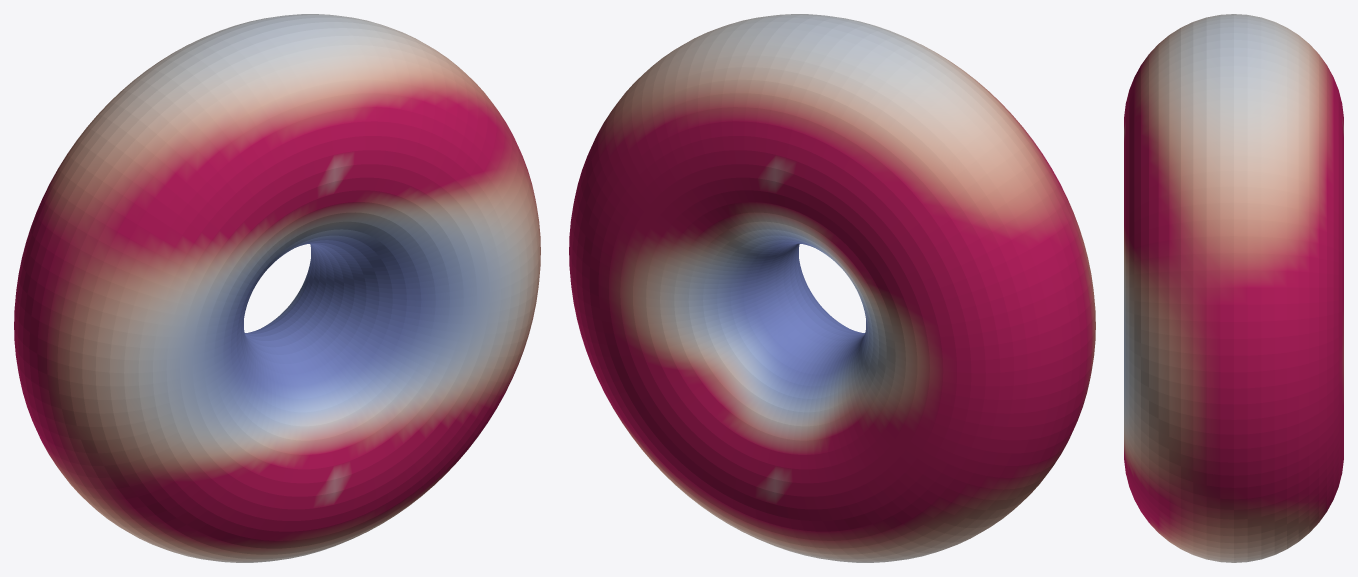
3 views of the same model, side by side, from view 1: azimuth 30°, elevation 25°; view 2: azimuth 150°, elevation 25°; view 3: azimuth 270°, elevation 25° (orthographic). The views are drawn at different scales.
Parts seen in each view (by area): view 1: world; view 2: world; view 3: world.
Part boxes in pixels (x1,y1,x2,y2): world: [14, 14, 540, 562]; world: [569, 14, 1095, 562]; world: [1124, 14, 1343, 562].
Bounding box in the file's own units: 22.27 × 22.27 × 8.92.
